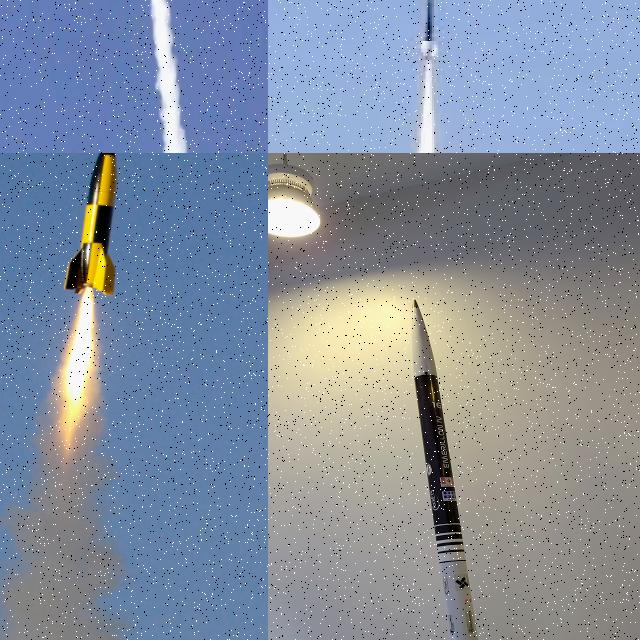Rocket: (411, 299, 479, 640), (61, 153, 119, 298), (418, 0, 442, 65)
